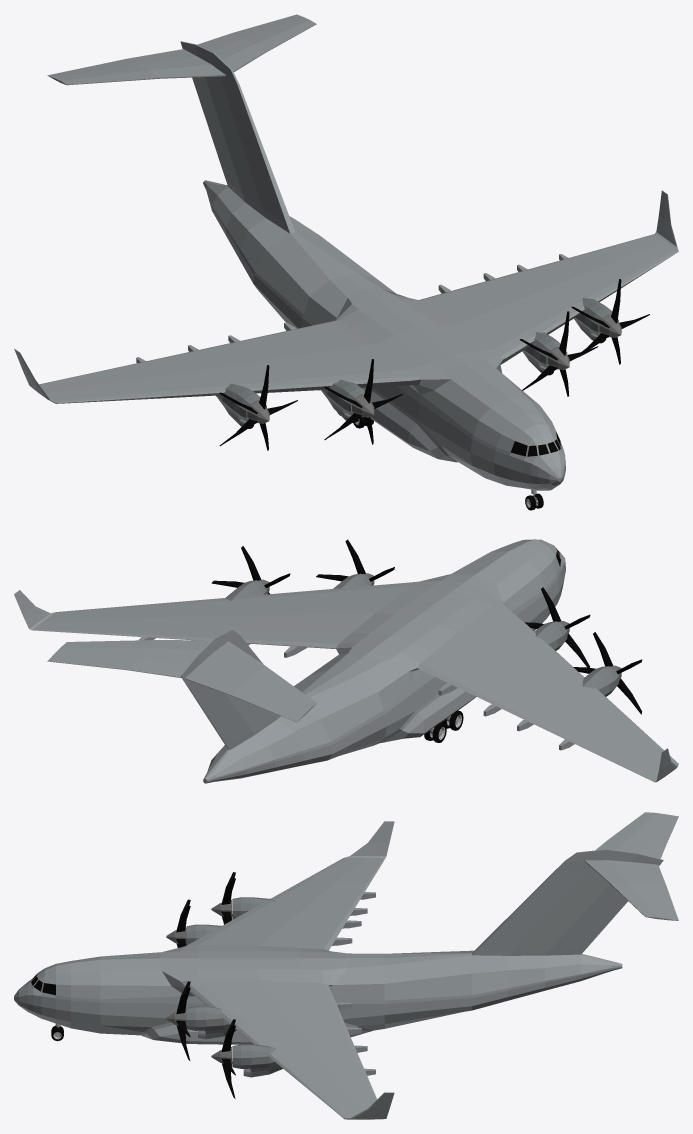
The picture shows the model from 3 angles, top to bottom: view 1: azimuth 30°, elevation 25°; view 2: azimuth 150°, elevation 25°; view 3: azimuth 270°, elevation 25°; orthographic projection. The views are drawn at different scales.
Visible parts, largest first — view 1: Body, Rudder, R_Flap2, propeller 2.002, propeller 2.003, propeller 2, propeller 2.001, R_elevator, L_Flap2, L_Elevator, R_Flap1; view 2: Body, Rudder, R_Flap2, R_elevator, L_Elevator, L_Flap2, R_Flap1, L_Flap1, propeller 2.003, propeller 2.002, Landing gear_RR, propeller 2.001 (+3 smaller); view 3: Body, Rudder, L_Flap2, R_Flap2, L_Elevator, L_Flap1, R_elevator, R_Flap1, propeller 2, propeller 2.001, propeller 2.003, propeller 2.002.
Boxes of the visible parts, x1,y1,x2,y2 form: Body: [14, 17, 678, 490]; Rudder: [192, 77, 241, 192]; R_Flap2: [227, 322, 342, 349]; propeller 2.002: [324, 359, 402, 444]; propeller 2.003: [219, 365, 297, 450]; propeller 2: [519, 311, 598, 396]; propeller 2.001: [571, 279, 649, 364]; R_elevator: [47, 49, 193, 78]; L_Flap2: [425, 273, 511, 306]; L_Elevator: [197, 14, 303, 51]; R_Flap1: [116, 345, 220, 371]; Body: [14, 539, 678, 783]; Rudder: [186, 681, 251, 745]; R_Flap2: [424, 657, 511, 716]; R_elevator: [188, 665, 303, 722]; L_Elevator: [47, 654, 189, 677]; L_Flap2: [237, 631, 342, 657]; R_Flap1: [515, 705, 595, 750]; L_Flap1: [115, 628, 220, 640]; propeller 2.003: [573, 632, 642, 714]; propeller 2.002: [525, 587, 590, 667]; Landing gear_RR: [424, 710, 463, 742]; propeller 2.001: [211, 546, 290, 594]; Body: [14, 812, 667, 1119]; Rudder: [550, 884, 627, 949]; L_Flap2: [304, 985, 361, 1034]; R_Flap2: [304, 916, 361, 948]; L_Elevator: [634, 863, 678, 920]; L_Flap1: [333, 1038, 375, 1082]; R_elevator: [638, 814, 678, 858]; R_Flap1: [333, 882, 375, 915]; propeller 2: [166, 981, 190, 1060]; propeller 2.001: [211, 1019, 235, 1098]; propeller 2.003: [211, 872, 235, 924]; propeller 2.002: [166, 899, 190, 947].
Bounding box in the file's own units: 4344 × 1414 × 4498.
